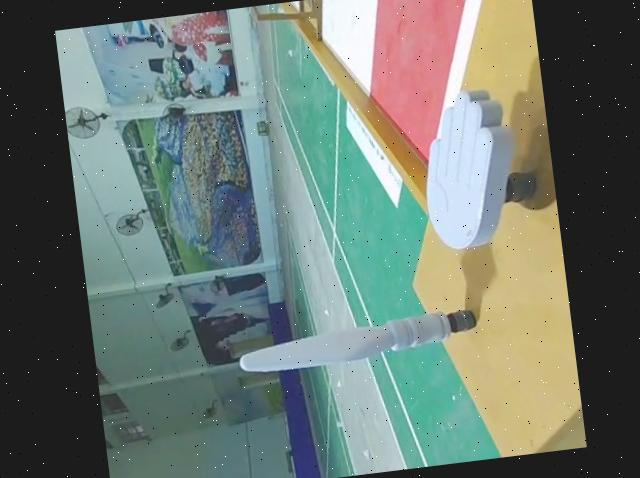Hand: (412, 85, 550, 258)
Sph: (236, 301, 494, 382)
